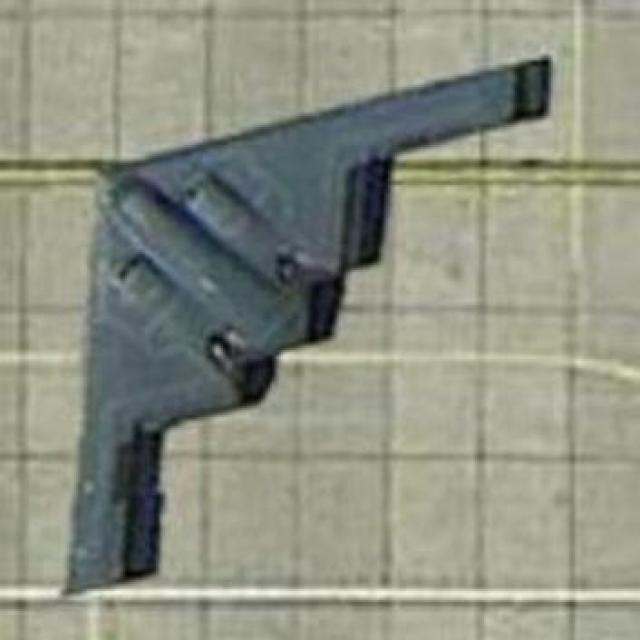B-2_TopDown: (58, 49, 555, 596)
